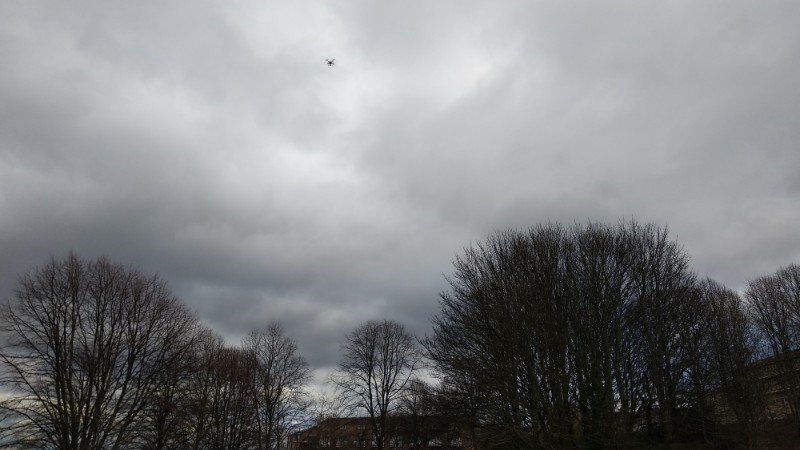drone: (326, 58, 337, 67)
